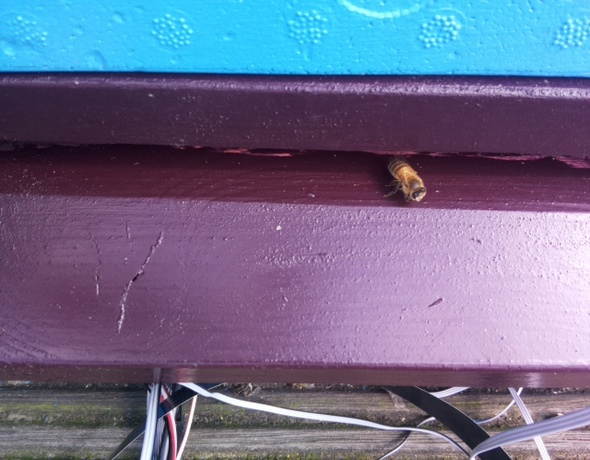no_pollen: (385, 156, 430, 204)
